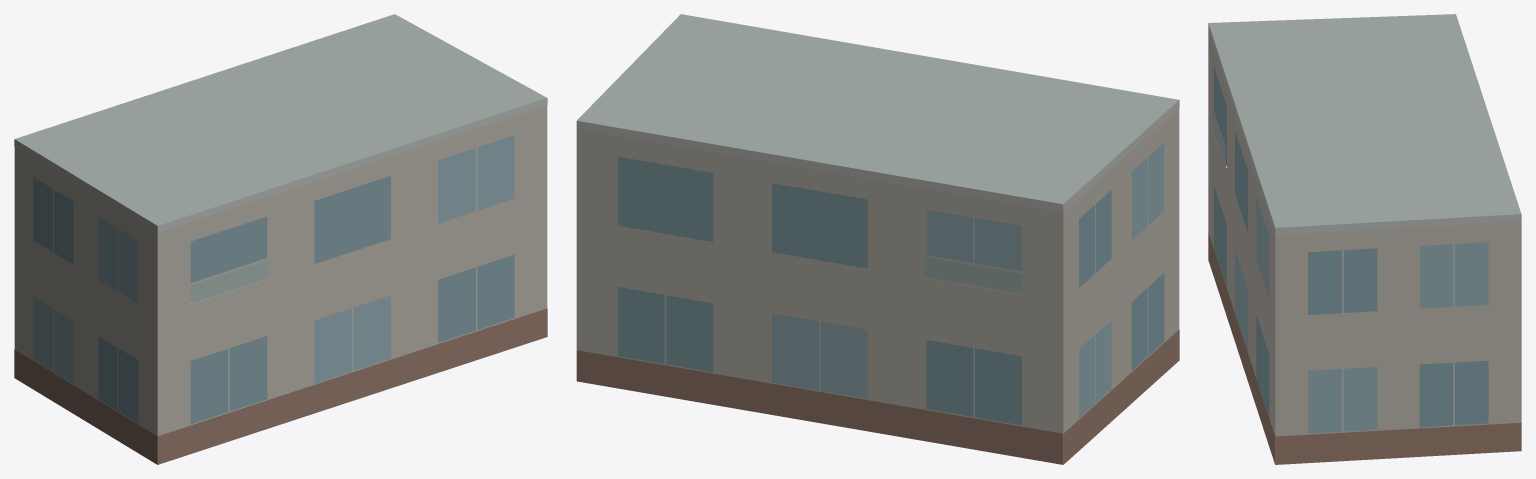
Rendered from survey-upis-32734509.glb.
3 views of the same model, side by side, from view 1: azimuth 30°, elevation 25°; view 2: azimuth 150°, elevation 25°; view 3: azimuth 270°, elevation 25° (orthographic). The views are drawn at different scales.
Visible parts, largest first — view 1: survey-upis-32734509.tmp; view 2: survey-upis-32734509.tmp; view 3: survey-upis-32734509.tmp.
Boxes of the visible parts, box(x1,y1,x2,y2) form: survey-upis-32734509.tmp: box(14, 14, 547, 464); survey-upis-32734509.tmp: box(576, 14, 1179, 464); survey-upis-32734509.tmp: box(1208, 14, 1521, 464).
Size of the model in its own units: 15.2 by 7.85 by 9.41.
